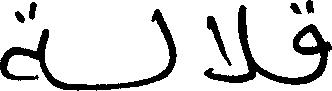X: (204, 0, 255, 87), (0, 0, 46, 85), (293, 0, 331, 89), (153, 4, 175, 87)
